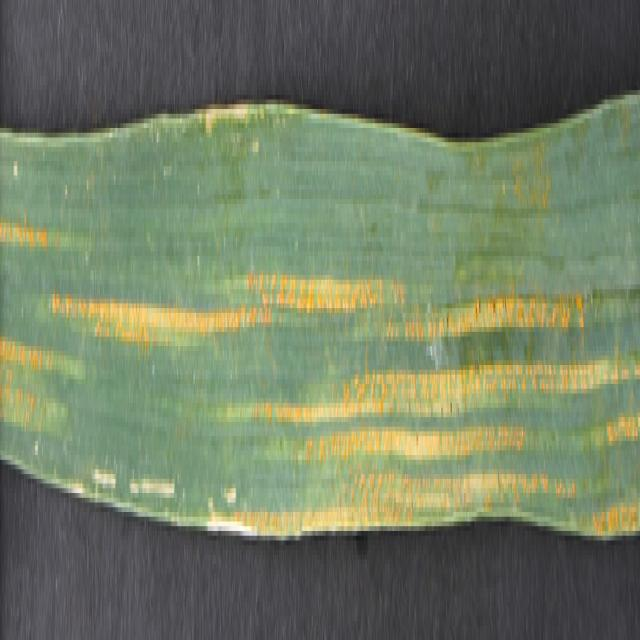leaf rust: (1, 128, 638, 550)
